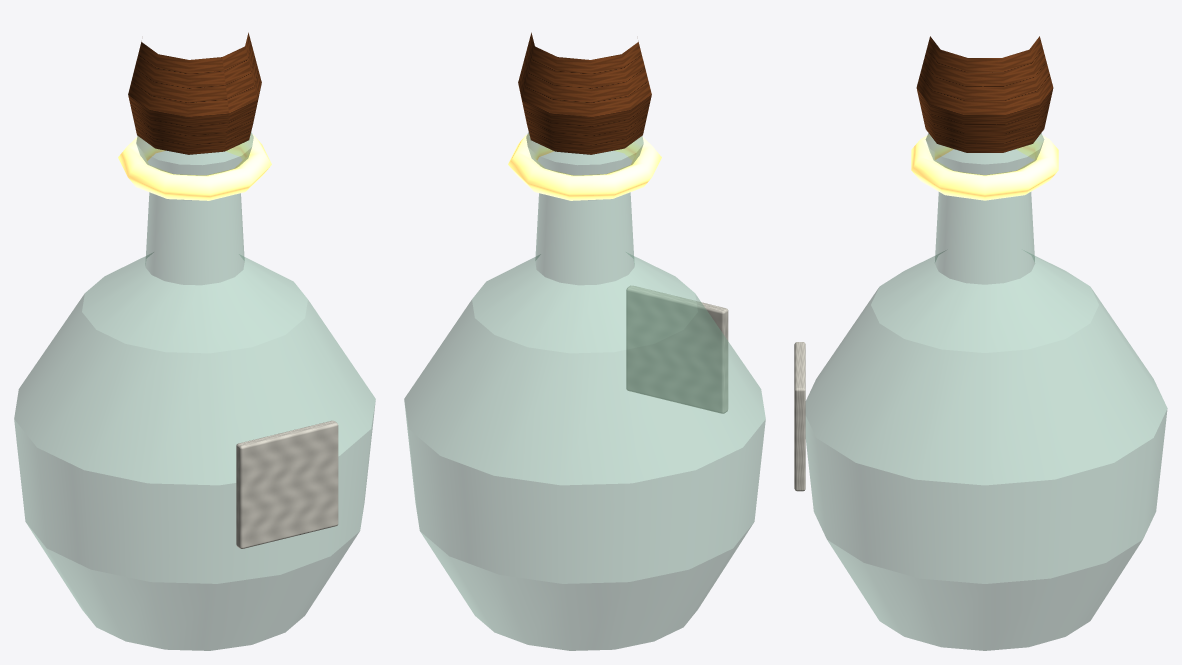
The model's file is witch-cottage-and-apothecary-potion-bottle-flask-b657139c.glb.
3 renders of one model, left to right at view 1: azimuth 30°, elevation 25°; view 2: azimuth 150°, elevation 25°; view 3: azimuth 270°, elevation 25°, orthographic.
Visible parts, largest first — view 1: potion-bottle-flask; view 2: potion-bottle-flask; view 3: potion-bottle-flask.
Boxes of the visible parts, left/top/right/bottom form: potion-bottle-flask: left=14, top=32, right=375, bottom=650; potion-bottle-flask: left=404, top=32, right=765, bottom=650; potion-bottle-flask: left=794, top=36, right=1167, bottom=650.
Size of the model in its own units: 0.16 by 0.28 by 0.1635.
4 materials, 2 textured.
